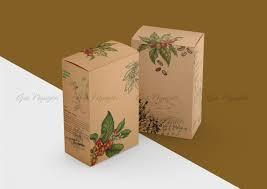box: (62, 39, 140, 169), (131, 24, 205, 140)
